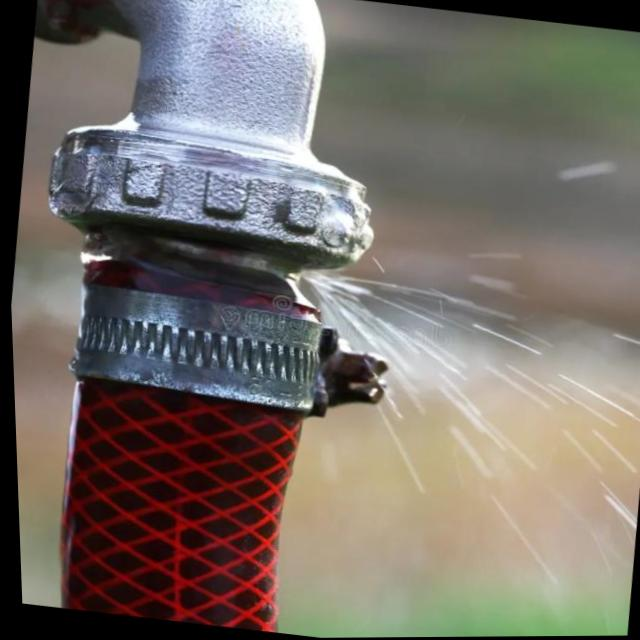leak: (283, 0, 640, 638), (11, 35, 137, 601)
